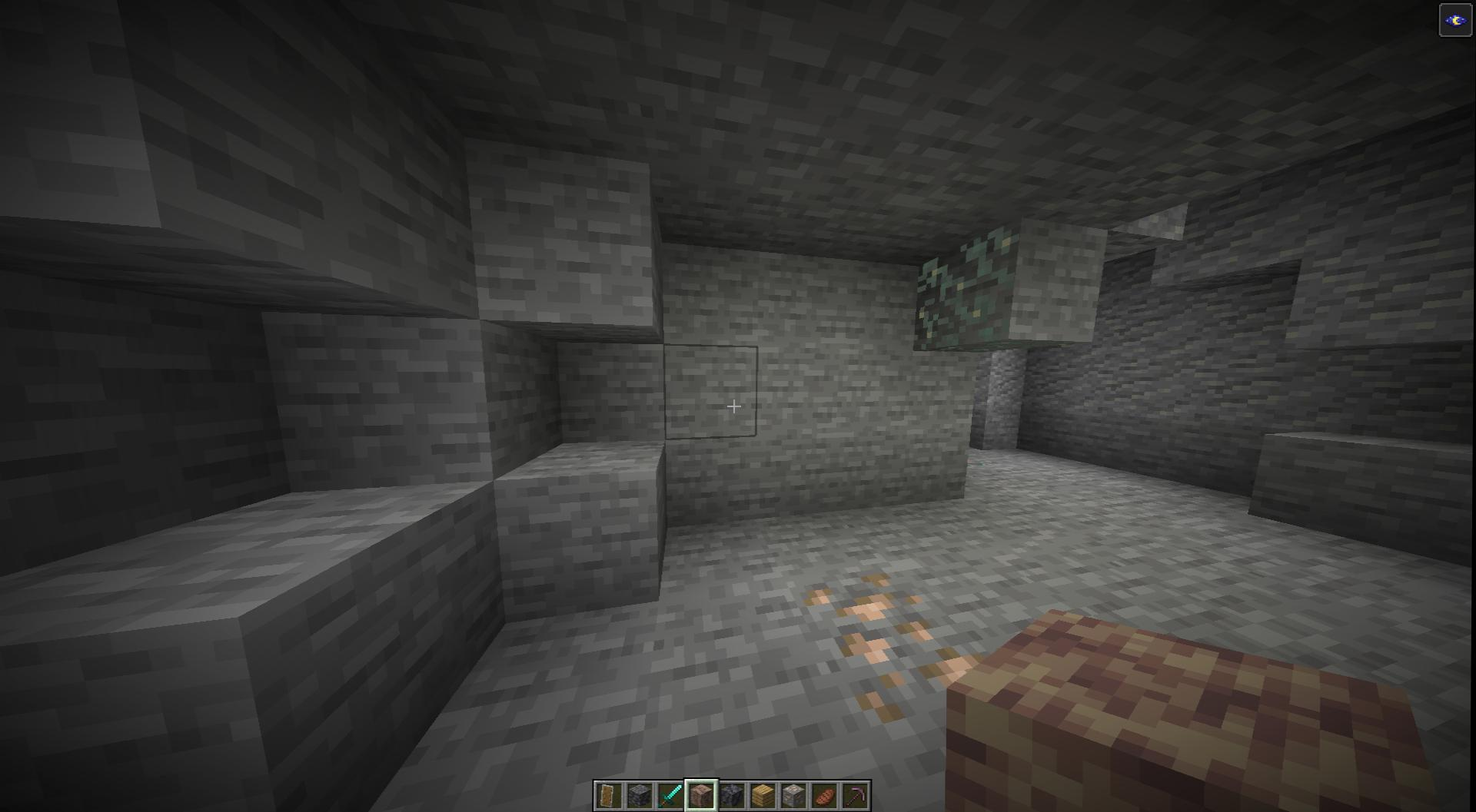iron ore: (804, 568, 971, 710)
